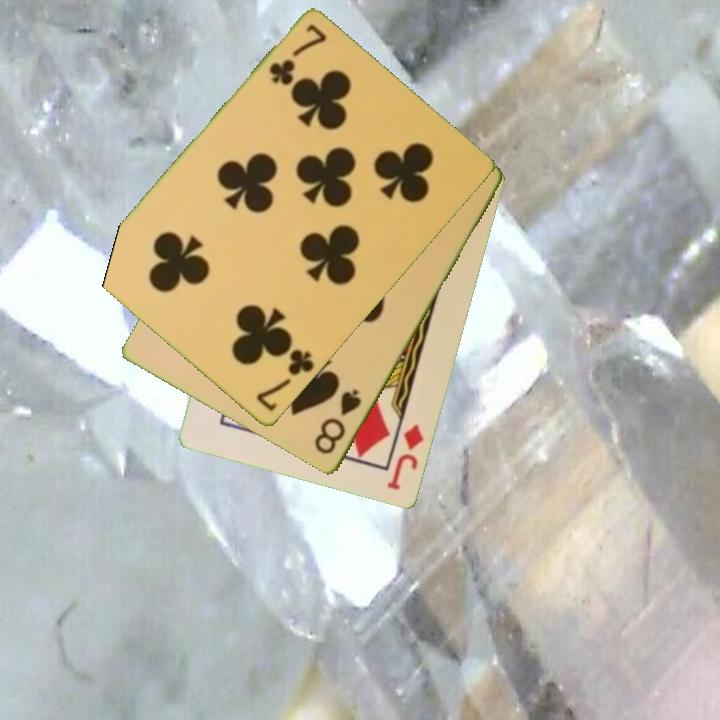7c: (252, 346, 317, 415), (265, 21, 330, 89)
8s: (311, 386, 365, 458)
Jd: (384, 421, 427, 494)
